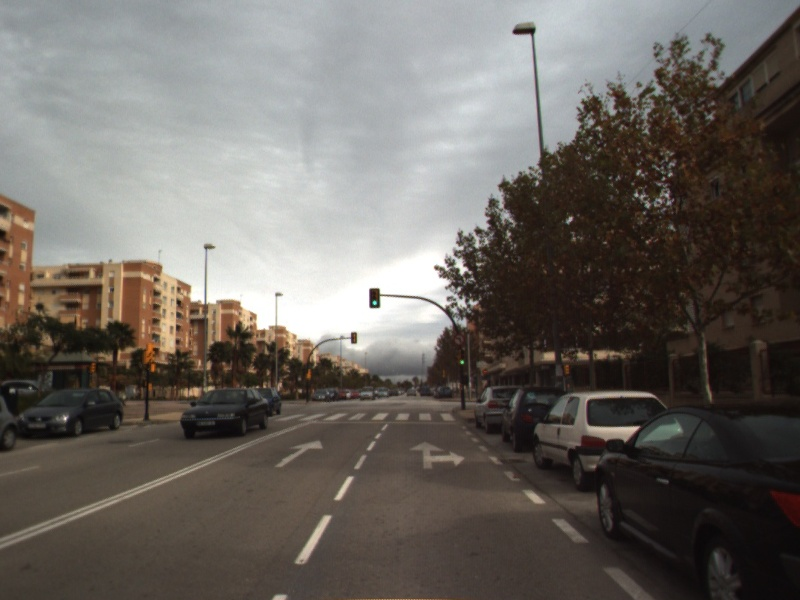STRAIGHT: (273, 438, 325, 469)
STRAIGHT_RIGHT: (407, 439, 467, 471)
